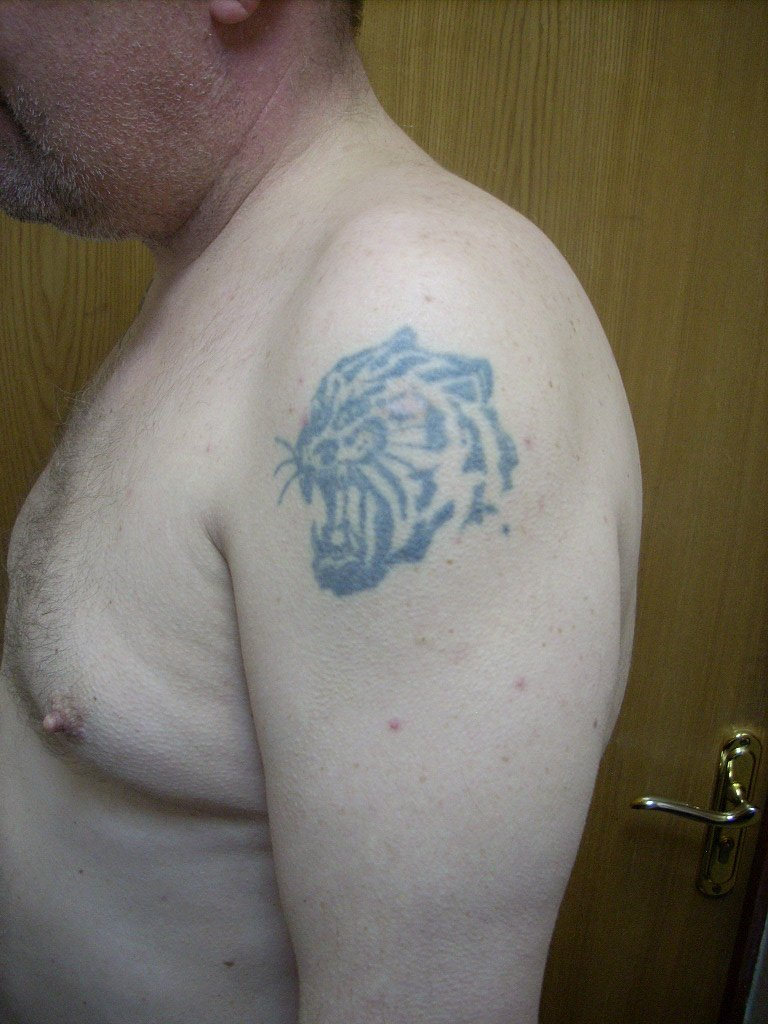tatu5_tigr: (246, 316, 566, 620)
